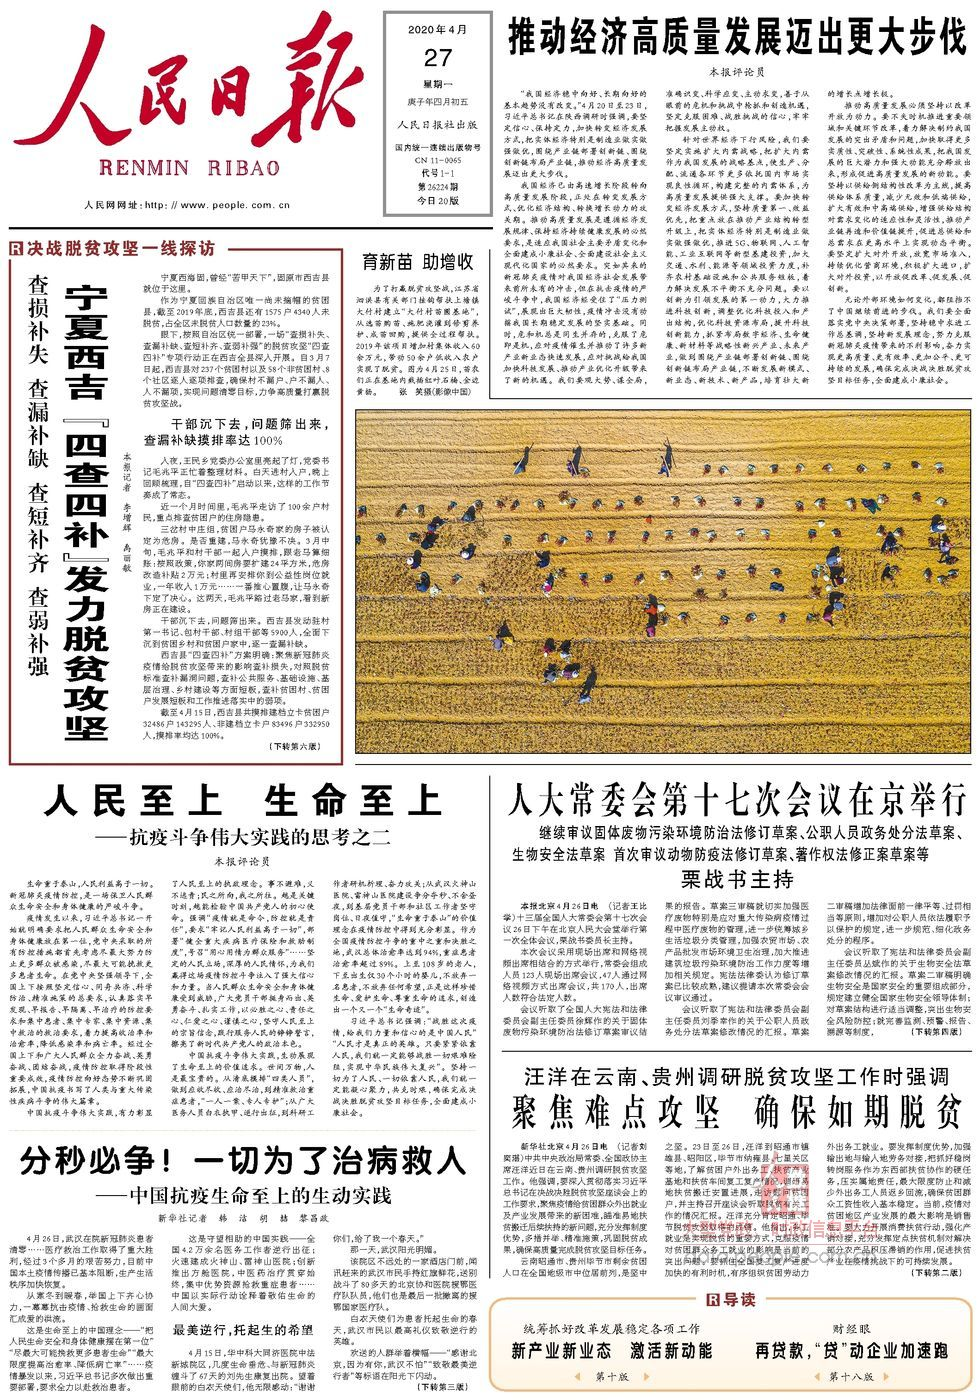pic: (352, 406, 978, 762)
